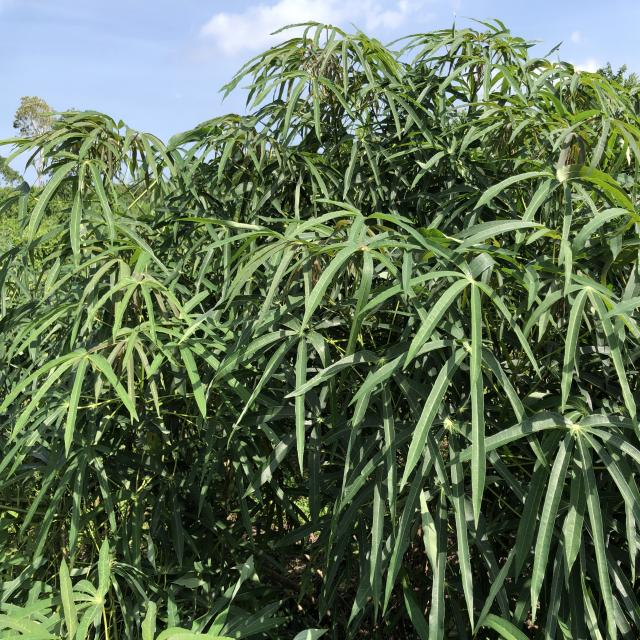Mosca: (354, 243, 372, 255)
